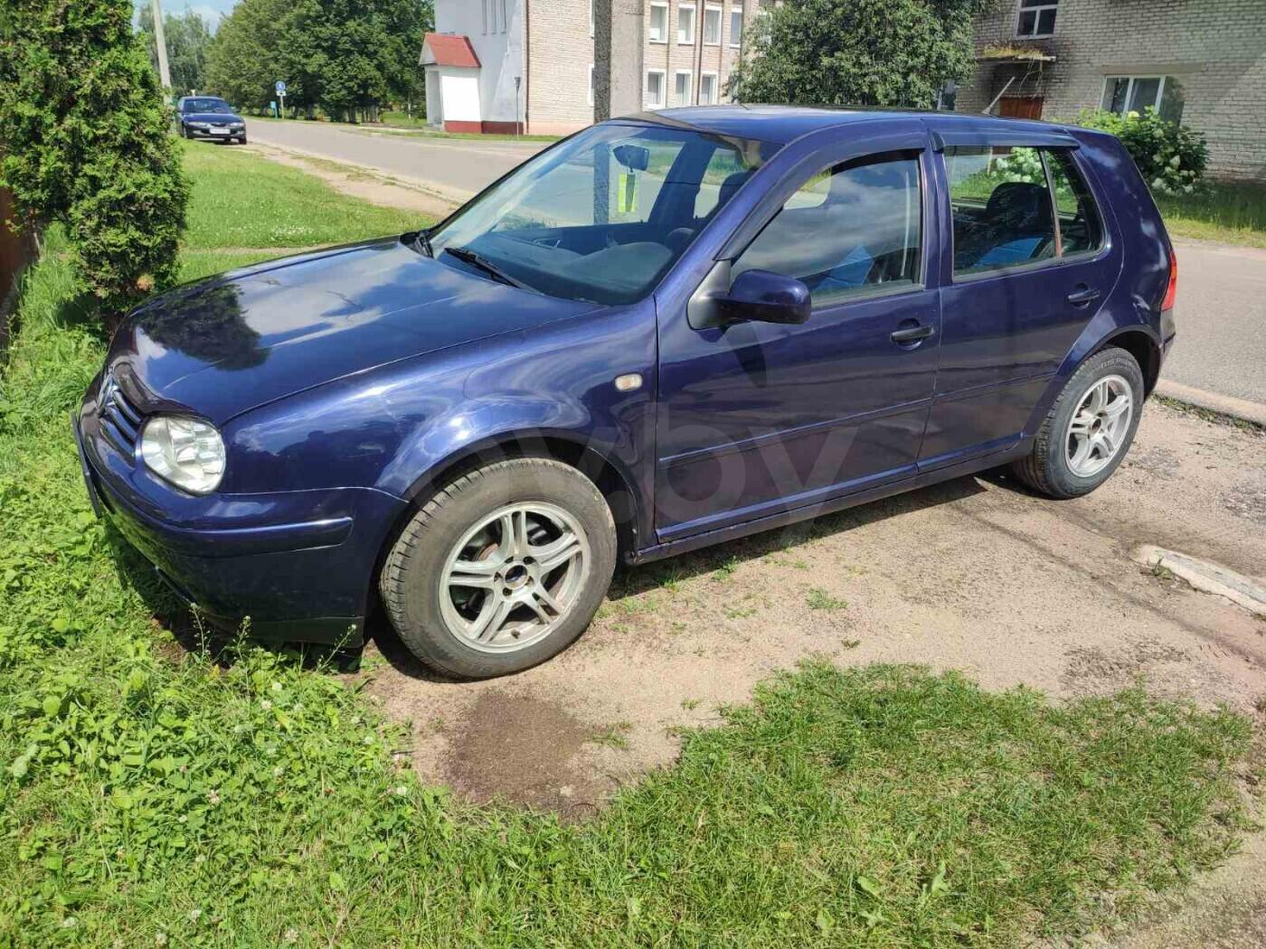Golf_1997-2006: (76, 96, 1186, 681)
